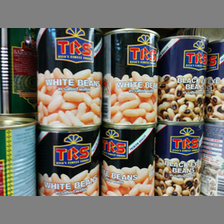beans: (35, 29, 105, 125), (109, 28, 159, 126), (37, 128, 99, 196), (162, 32, 207, 121), (103, 128, 156, 195), (157, 126, 206, 196)
